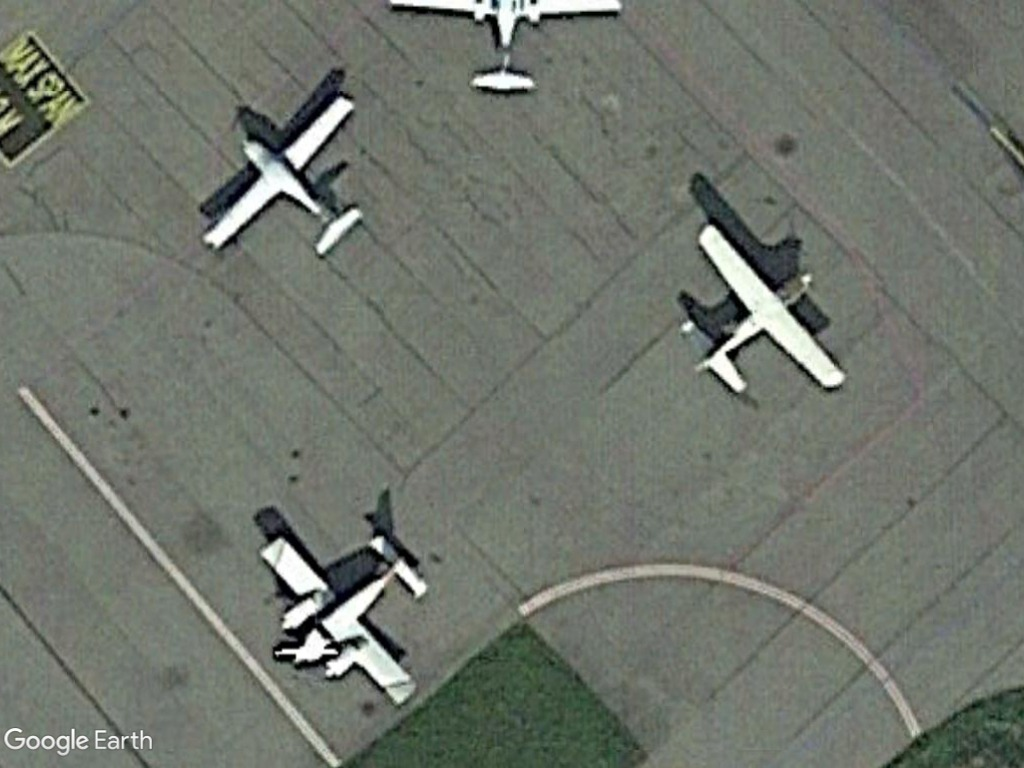trainer: (254, 527, 431, 713), (680, 217, 850, 407), (196, 90, 368, 270)
